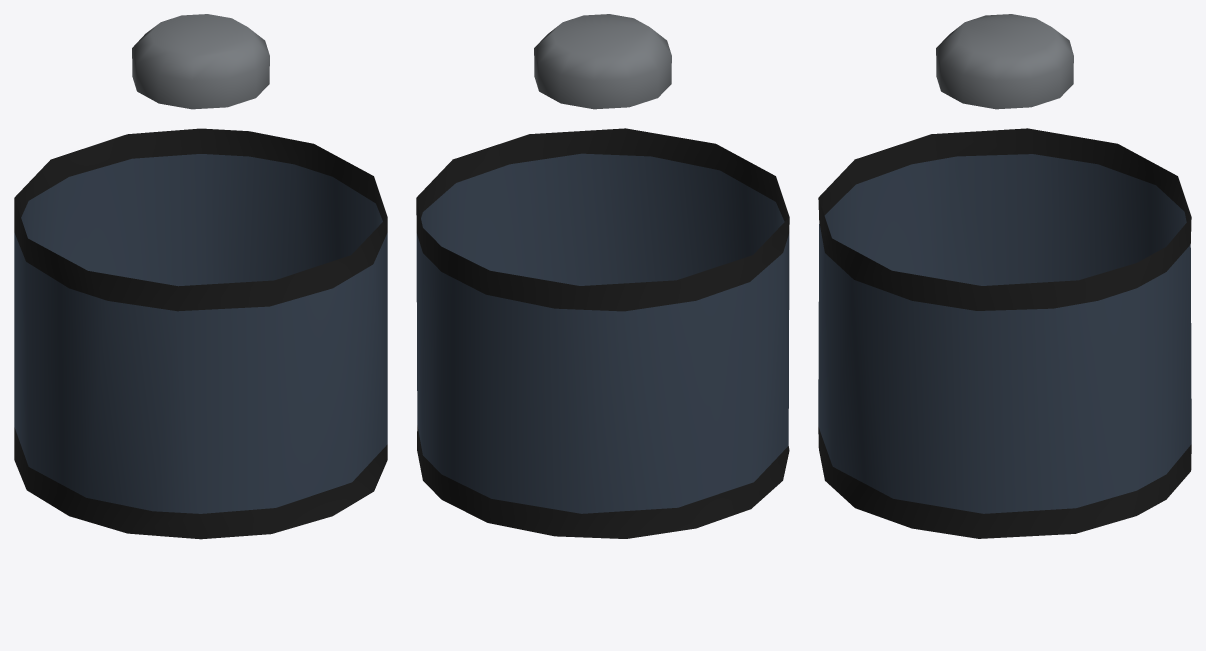
File: env_ruin_tank_01_lod1.fbx
3 views of the same model, side by side, from view 1: azimuth 30°, elevation 25°; view 2: azimuth 150°, elevation 25°; view 3: azimuth 270°, elevation 25° (orthographic).
Parts seen in each view (by area): view 1: env_ruin_tank_01_lod1; view 2: env_ruin_tank_01_lod1; view 3: env_ruin_tank_01_lod1.
Boxes of the visible parts, box(x1,y1,x2,y2) form: env_ruin_tank_01_lod1: box(14, 14, 387, 539); env_ruin_tank_01_lod1: box(416, 14, 789, 538); env_ruin_tank_01_lod1: box(818, 14, 1191, 538).
Bounding box in the file's own units: 34.81 × 56.65 × 34.81.
